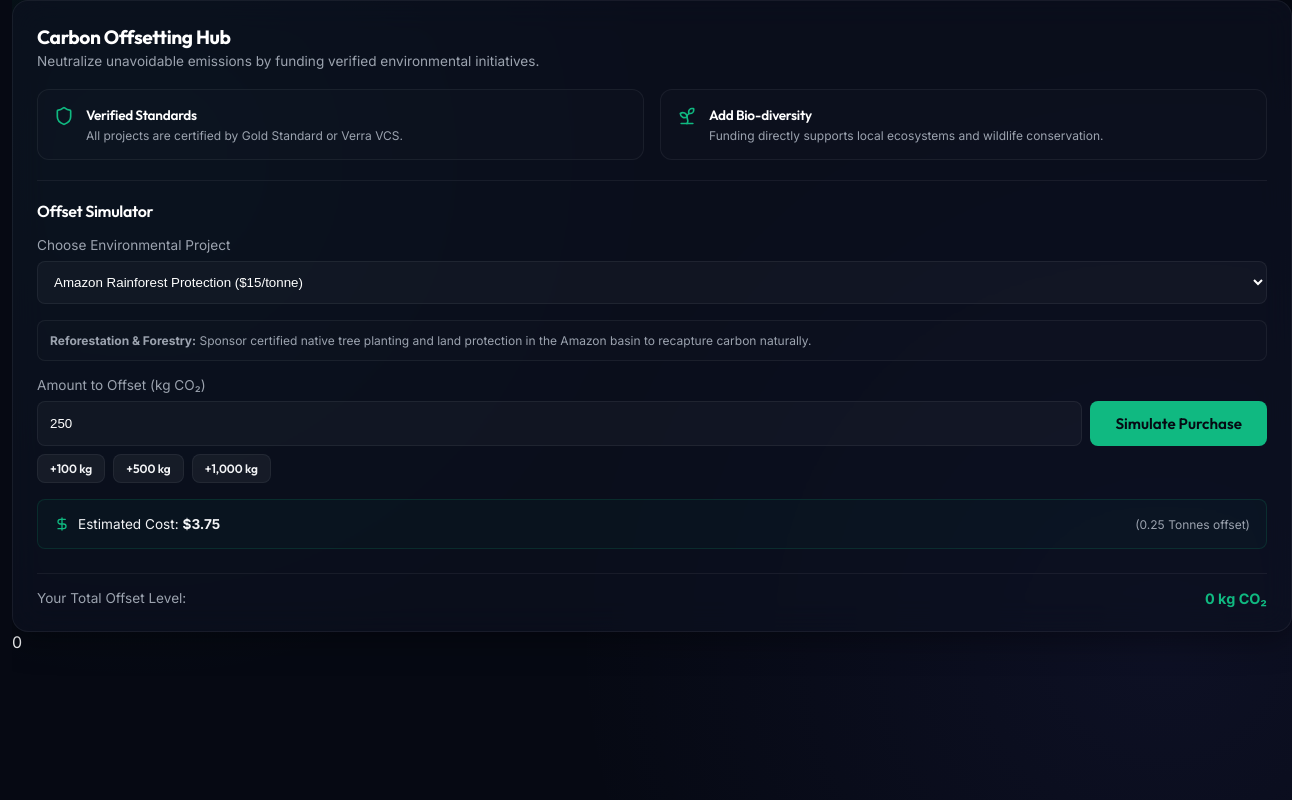
Scenario: EducationalHub Component › renders offsetting details and allows project selection changes
This screenshot has width=1292, height=800.
Expected: the heading "Carbon Offsetting Hub" is shown, [37,25,230,49]
Expected: the heading "Offset Simulator" is shown, [37,201,153,221]
# Change to Wind Project
Select "Global Wind Energy Farms ($8/tonne)" in the dropdown labelled "Choose Environmental Project" at (652, 282), box [37,261,1267,304]
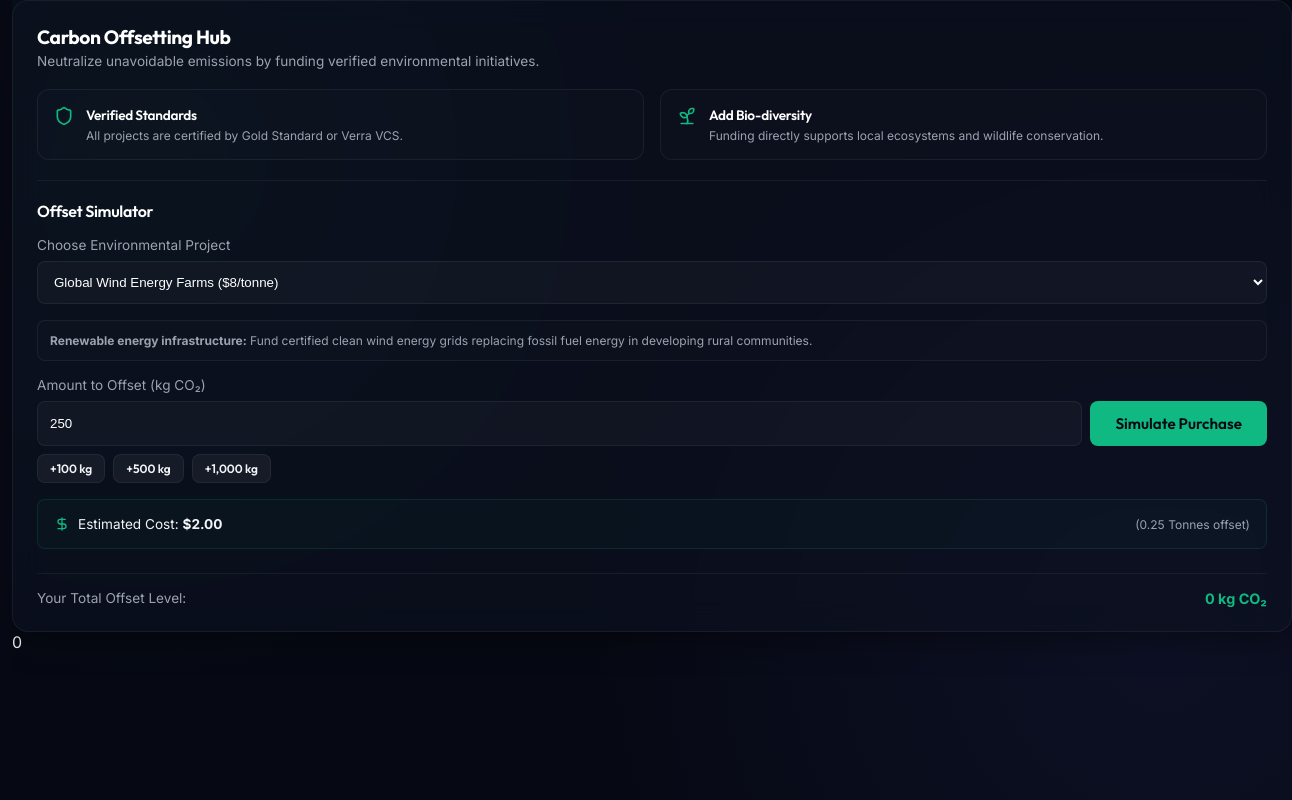
Expected: the text "Renewable energy infrastructure:" is shown, [50,333,247,348]
